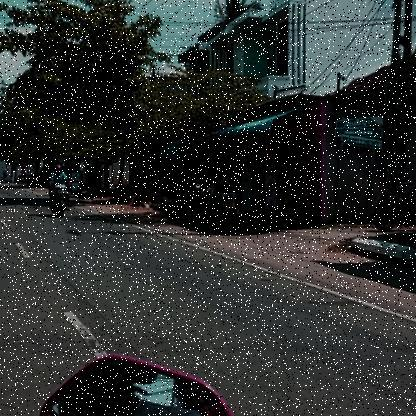motorcycle: (47, 183, 71, 219)
